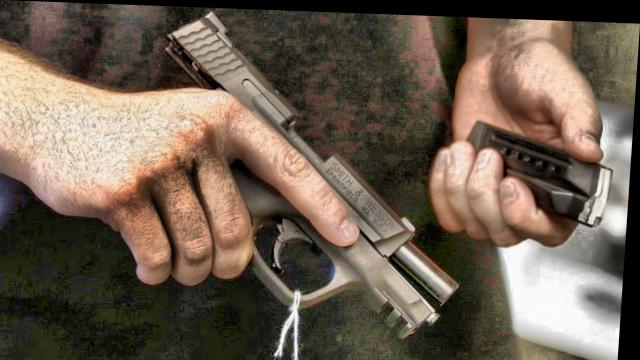pistol: (93, 5, 478, 338)
